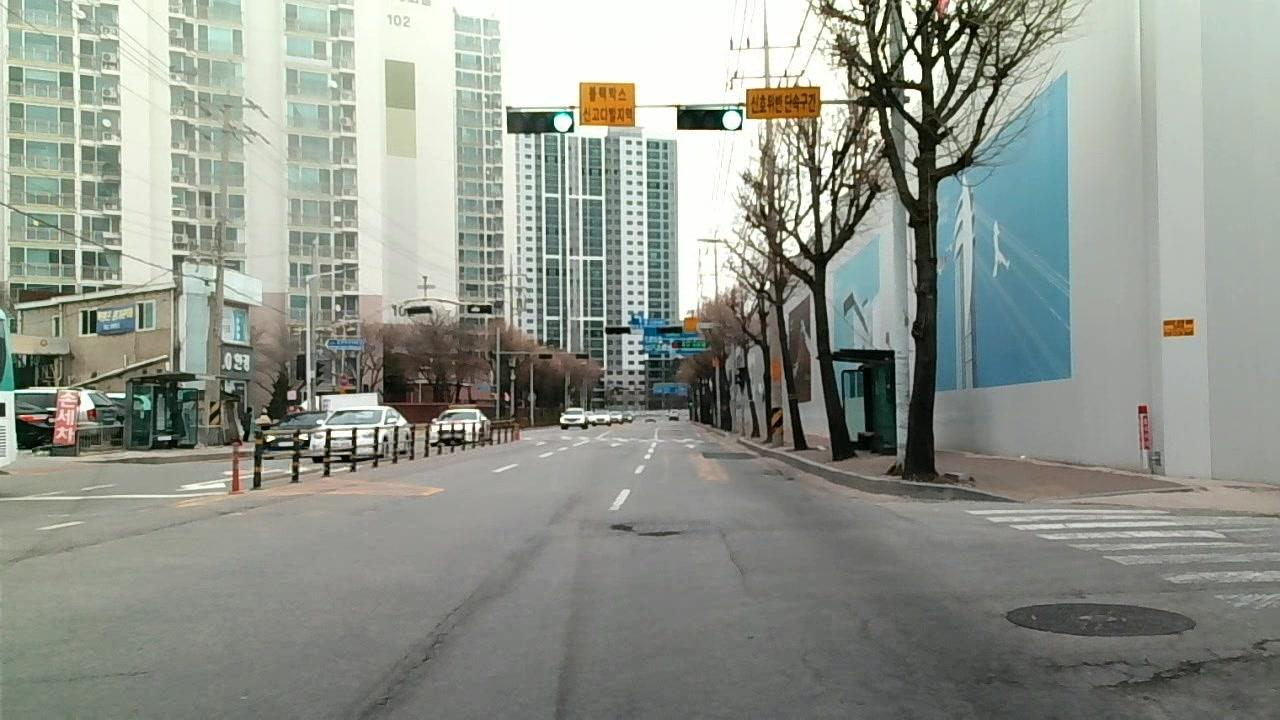vcrack: (1061, 638, 1280, 700), (354, 610, 464, 720), (716, 529, 754, 591)
